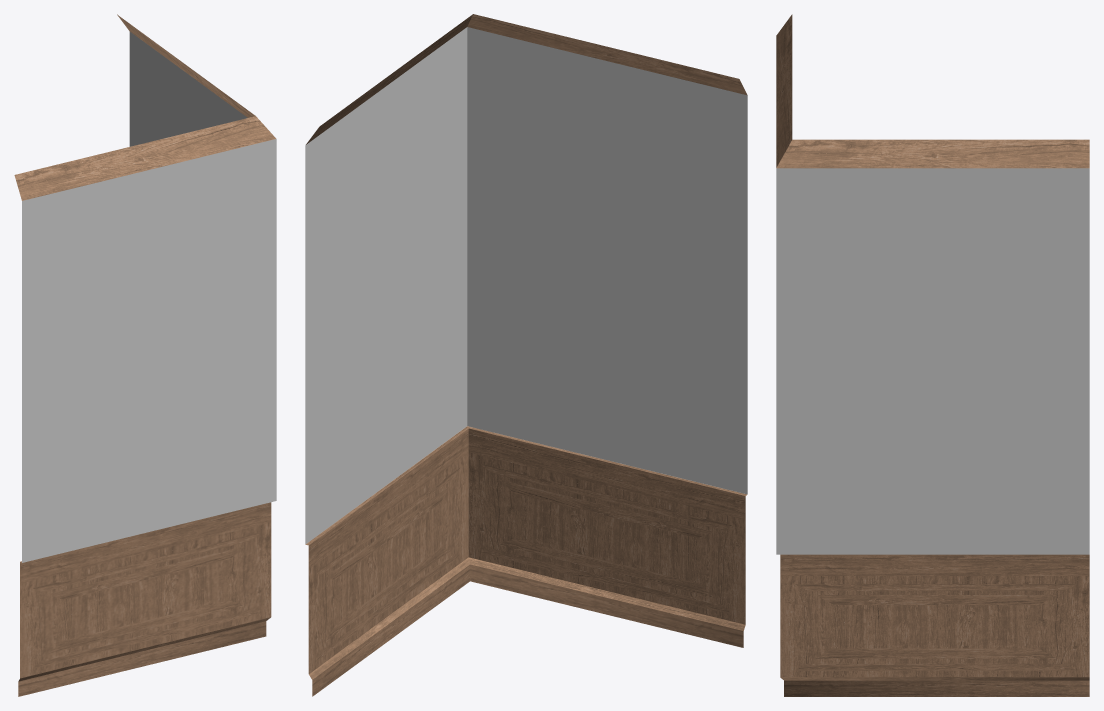
File: WallIntCornerinside2A.fbx
The picture shows the model from 3 angles, left to right: view 1: azimuth 30°, elevation 25°; view 2: azimuth 150°, elevation 25°; view 3: azimuth 270°, elevation 25°; orthographic projection. The views are drawn at different scales.
Visible parts, largest first — view 1: WallIntCornerinside2A; view 2: WallIntCornerinside2A; view 3: WallIntCornerinside2A.
Boxes of the visible parts, x1,y1,x2,y2 form: WallIntCornerinside2A: (14, 14, 276, 696); WallIntCornerinside2A: (305, 14, 747, 696); WallIntCornerinside2A: (776, 14, 1089, 696).
Bounding box in the file's own units: 195 × 380 × 195.
